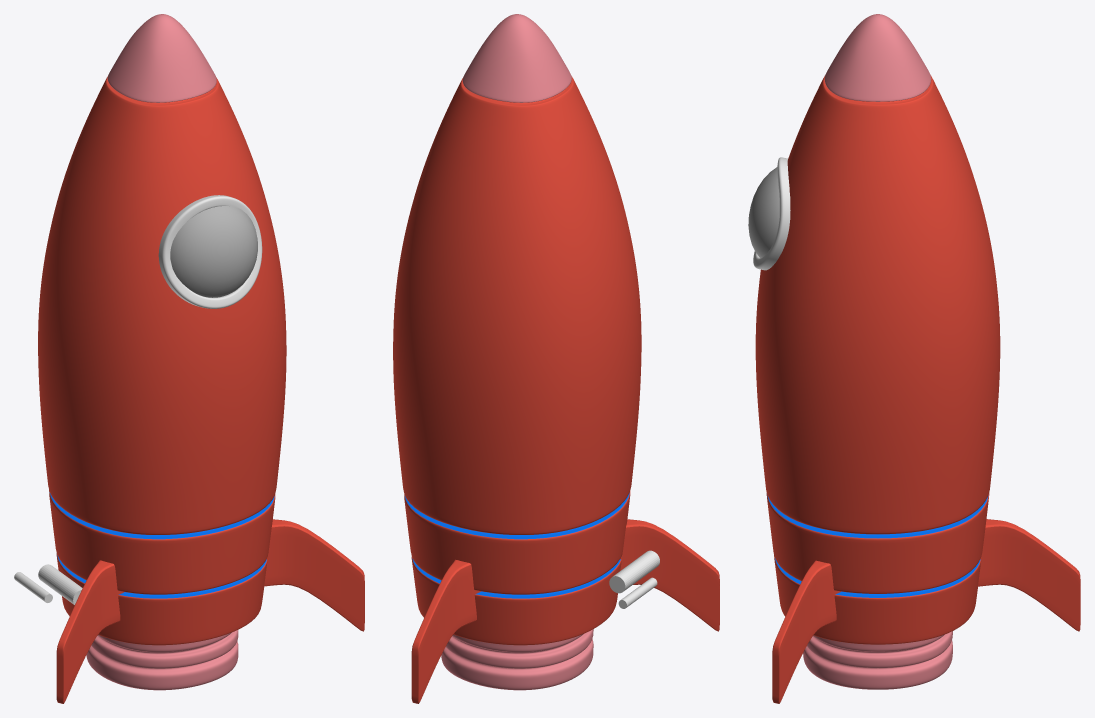
File: rocket.fbx
3 renders of one model, left to right at view 1: azimuth 30°, elevation 25°; view 2: azimuth 150°, elevation 25°; view 3: azimuth 270°, elevation 25°, orthographic.
Parts seen in each view (by area): view 1: RocketBody, Glasses, ConnectingPart.002, ConnectingPart, Frame, Holes; view 2: RocketBody, ConnectingPart, ConnectingPart.001, Holes; view 3: RocketBody, ConnectingPart.001, ConnectingPart.002, Glasses, Frame.
Part boxes in pixels (box(x1,y1,x2,y2)): RocketBody: box(38, 14, 286, 690); Glasses: box(170, 206, 257, 297); ConnectingPart.002: box(264, 519, 364, 631); ConnectingPart: box(56, 560, 123, 703); Frame: box(158, 195, 262, 308); Holes: box(14, 564, 82, 604); RocketBody: box(393, 14, 641, 690); ConnectingPart: box(620, 519, 719, 631); ConnectingPart.001: box(411, 559, 480, 703); Holes: box(609, 550, 659, 608); RocketBody: box(755, 14, 1000, 689); ConnectingPart.001: box(978, 519, 1080, 631); ConnectingPart.002: box(772, 560, 840, 703); Glasses: box(748, 167, 779, 258); Frame: box(753, 157, 790, 270).
Bounding box in the file's own units: 31.96 × 64.09 × 29.91.
